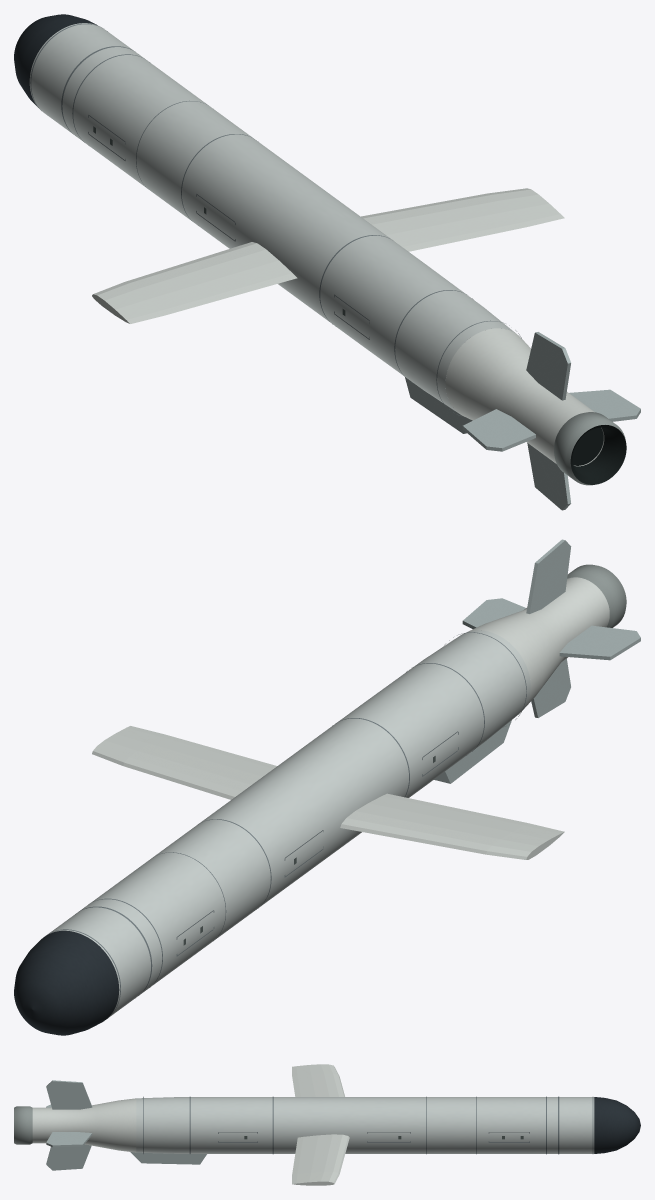
Rendered from kalibr.obj.
3 views of the same model, one above another, from view 1: azimuth 30°, elevation 25°; view 2: azimuth 150°, elevation 25°; view 3: azimuth 270°, elevation 25° (orthographic). The views are drawn at different scales.
Parts seen in each view (by area): view 1: fuselage, deployed_wing, tail_fairing, tail_fin, dark_radome, exhaust_recess, exhaust_rim, panel_seam, ventral_fairing, tail_edge, exhaust_dark; view 2: fuselage, deployed_wing, dark_radome, tail_fairing, tail_fin, exhaust_rim, panel_seam, ventral_fairing, tail_edge; view 3: fuselage, deployed_wing, tail_fairing, tail_fin, dark_radome, ventral_fairing, exhaust_rim, panel_seam, access_panel, tail_edge.
Boxes of the visible parts, bbox=[...] form: fuselage: bbox=[29, 23, 515, 412]; deployed_wing: bbox=[93, 188, 564, 323]; tail_fairing: bbox=[445, 328, 604, 466]; tail_fin: bbox=[463, 333, 640, 509]; dark_radome: bbox=[14, 14, 97, 107]; exhaust_recess: bbox=[570, 425, 626, 484]; exhaust_rim: bbox=[554, 412, 625, 485]; panel_seam: bbox=[30, 23, 521, 415]; ventral_fairing: bbox=[405, 377, 472, 433]; tail_edge: bbox=[462, 332, 640, 510]; exhaust_dark: bbox=[572, 427, 603, 465]; fuselage: bbox=[46, 630, 530, 1018]; deployed_wing: bbox=[92, 726, 564, 859]; dark_radome: bbox=[14, 930, 119, 1035]; tail_fairing: bbox=[468, 577, 609, 709]; tail_fin: bbox=[463, 540, 640, 717]; exhaust_rim: bbox=[567, 564, 626, 627]; panel_seam: bbox=[50, 632, 526, 1018]; ventral_fairing: bbox=[434, 720, 511, 783]; tail_edge: bbox=[462, 539, 640, 717]; fuselage: bbox=[136, 1097, 594, 1153]; deployed_wing: bbox=[292, 1064, 349, 1183]; tail_fairing: bbox=[32, 1098, 136, 1152]; tail_fin: bbox=[46, 1081, 92, 1170]; dark_radome: bbox=[594, 1097, 640, 1153]; ventral_fairing: bbox=[130, 1152, 206, 1164]; exhaust_rim: bbox=[14, 1106, 32, 1144]; panel_seam: bbox=[143, 1096, 593, 1154]; access_panel: bbox=[218, 1132, 529, 1142]; tail_edge: bbox=[46, 1080, 92, 1163].
Size of the model in its own units: 3.88 by 1.38 by 8.76.
Materials: 1 (1 with a texture image).
